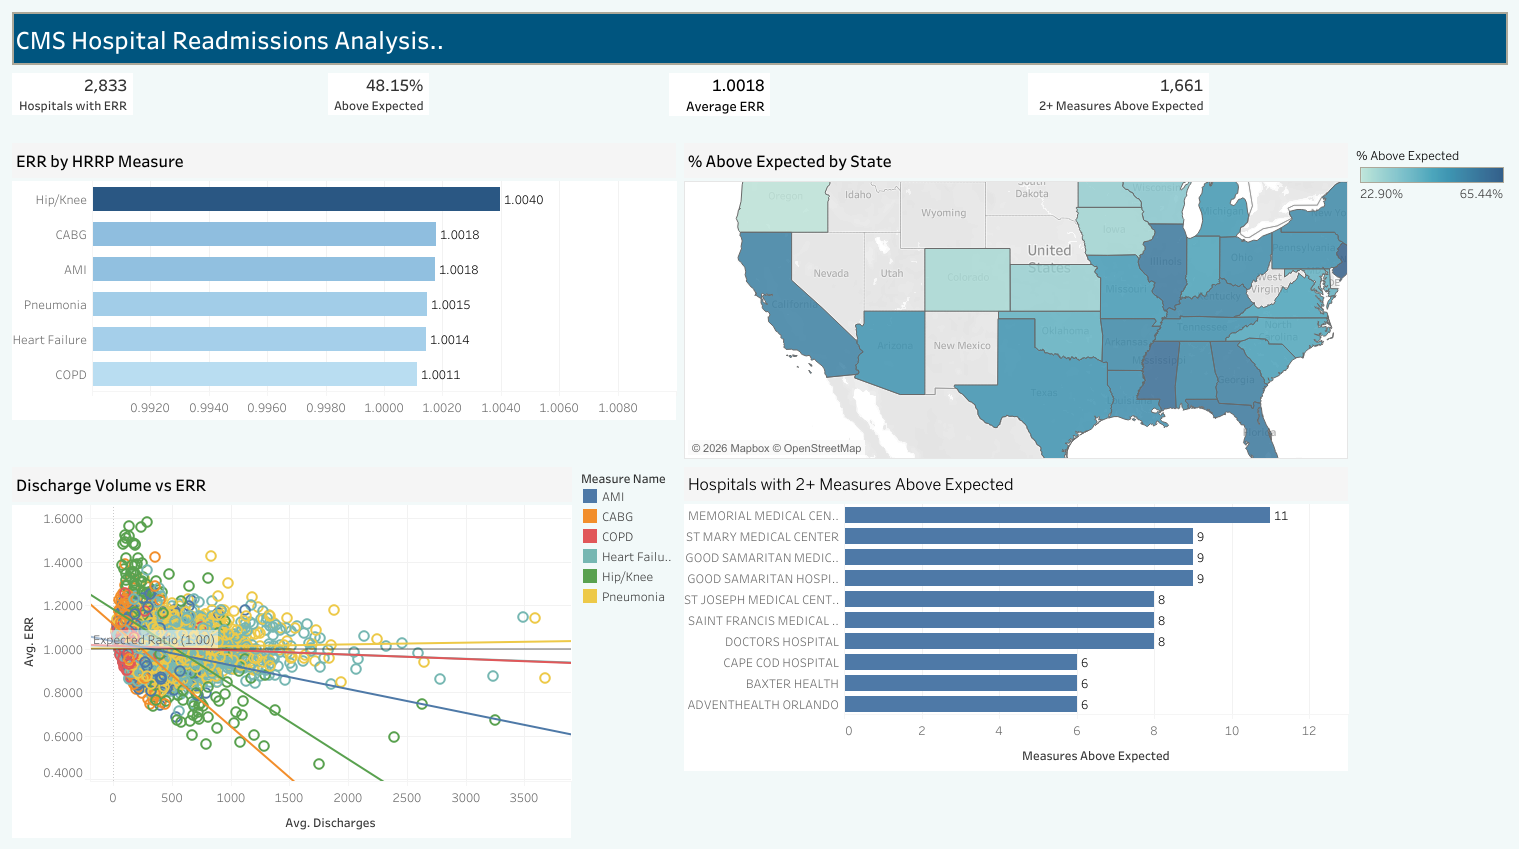

Layout of this report page (visuals, bound fields, positions):
{"tool":"tableau","page":{"name":"CMS Hospital Readmissions Analysis","canvas":[1520,850],"ordinal":0},"visuals":[{"type":"title","box":[8,8,1504,86]},{"type":"worksheet","title":"KPI - Hospitals with Reported ERR","mark":"Automatic","box":[8,94,316,68]},{"type":"worksheet","title":"KPI - ERR Above Expected","mark":"Automatic","box":[324,94,341,68]},{"type":"worksheet","title":"KPI - Average ERR","mark":"Automatic","box":[665,94,359,68]},{"type":"worksheet","title":"KPI - Hospitals with 2+ Measures Above Expected","mark":"Automatic","box":[1024,94,488,68]},{"type":"worksheet","title":"ERR by HRRP Measure","mark":"Automatic","rows":["Measure_Name"],"cols":["Excess_Readmission_Ratio"],"box":[8,162,672,313.7]},{"type":"worksheet","title":"ERR Above Expected by State","mark":"Multipolygon","box":[680,162,672,313.7]},{"type":"legend","title":"ERR Above Expected by State","param":"[federated.1la2pme02selso16xqyvk0ybnwp2].[usr:Calculation_0655085393776642:qk]","box":[1352,162,160,81]},{"type":"worksheet","title":"Discharge Volume vs ERR","mark":"Automatic","rows":["Excess_Readmission_Ratio"],"cols":["Number_of_Discharges"],"box":[8,475.7,568,366.3]},{"type":"legend","title":"Discharge Volume vs ERR","param":"[federated.1la2pme02selso16xqyvk0ybnwp2].[none:Measure_Name:nk]","box":[576,475.7,104,366.3]},{"type":"worksheet","title":"Hospitals with Multiple Measures Above Expected","mark":"Automatic","rows":["Facility_Name"],"cols":["Calculation_0655085404418052"],"box":[680,475.7,672,366.3]}]}

Visuals, with their boxes in screenshot pixels (x1, y1, x2, y2), scaled from the page's 1520x850 canvas onto the 1519x849 screenshot:
title: bbox=[8, 8, 1511, 94]
"KPI - Hospitals with Reported ERR" worksheet: bbox=[8, 94, 324, 162]
"KPI - ERR Above Expected" worksheet: bbox=[324, 94, 665, 162]
"KPI - Average ERR" worksheet: bbox=[665, 94, 1023, 162]
"KPI - Hospitals with 2+ Measures Above Expected" worksheet: bbox=[1023, 94, 1511, 162]
"ERR by HRRP Measure" worksheet: bbox=[8, 162, 680, 475]
"ERR Above Expected by State" worksheet (Multipolygon marks): bbox=[680, 162, 1351, 475]
"ERR Above Expected by State" legend: bbox=[1351, 162, 1511, 243]
"Discharge Volume vs ERR" worksheet: bbox=[8, 475, 576, 841]
"Discharge Volume vs ERR" legend: bbox=[576, 475, 680, 841]
"Hospitals with Multiple Measures Above Expected" worksheet: bbox=[680, 475, 1351, 841]
